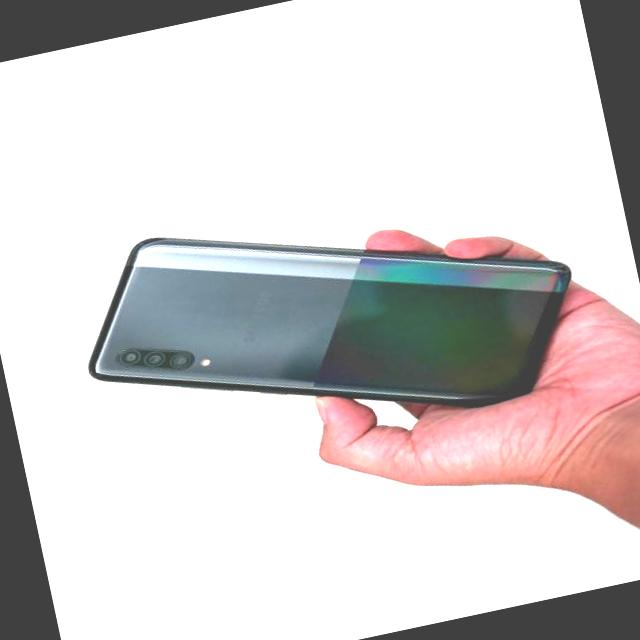lens_back: (166, 346, 193, 371), (116, 345, 144, 368), (142, 347, 168, 368)
phone: (62, 151, 597, 485)
